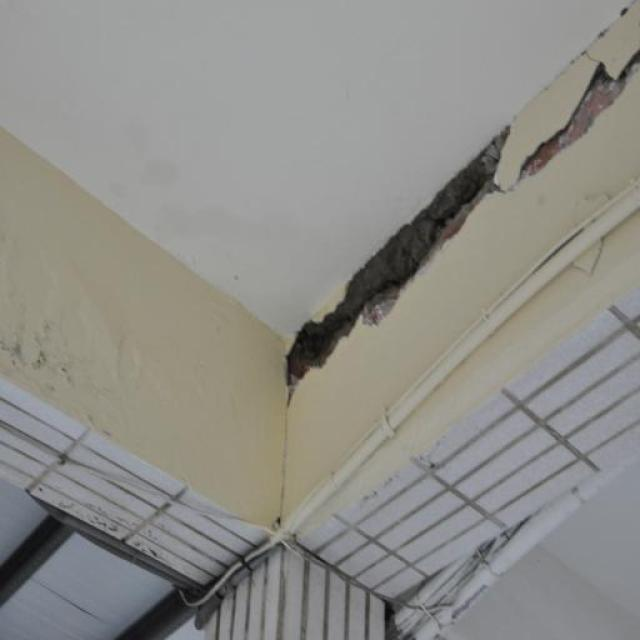D10: (286, 125, 510, 392), (516, 46, 639, 180)
